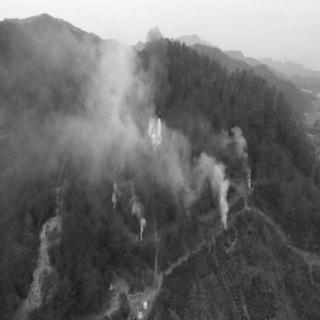Fire: (144, 101, 164, 147)
Smoke: (85, 33, 148, 240), (168, 126, 231, 230), (233, 121, 257, 193)
